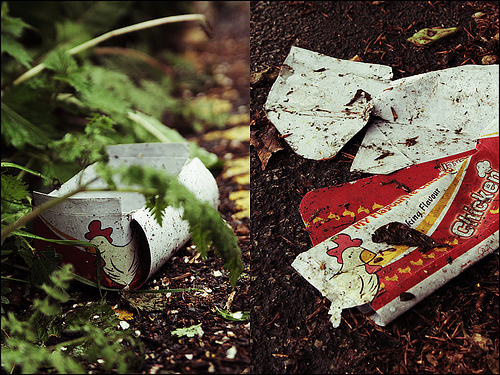litter: (264, 45, 500, 326), (31, 141, 220, 288)
